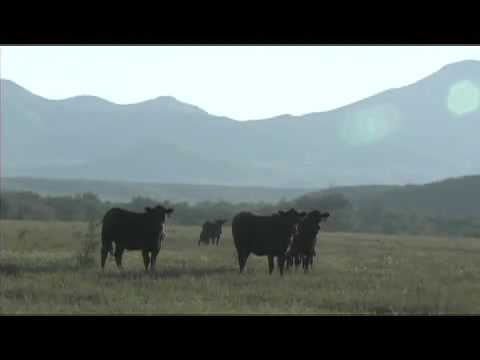cow: (99, 203, 177, 273), (233, 209, 311, 277), (288, 210, 333, 273), (199, 218, 230, 248)
